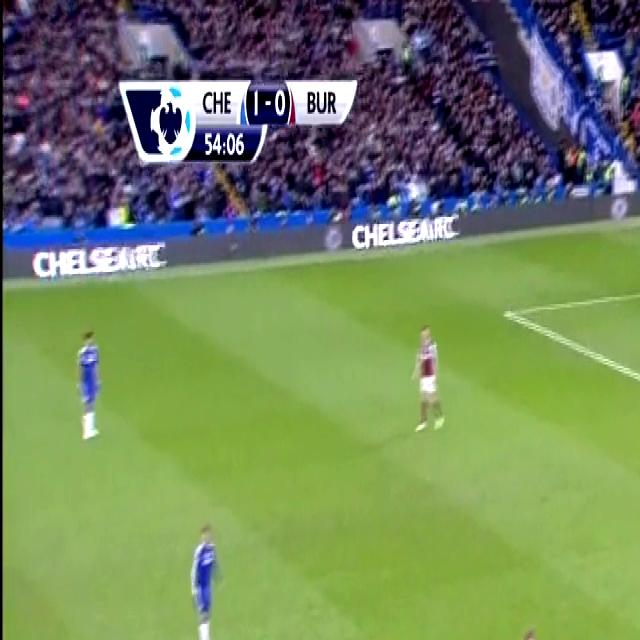soccer-player: (406, 311, 452, 447), (183, 508, 225, 640), (71, 317, 110, 453), (502, 610, 553, 640)
